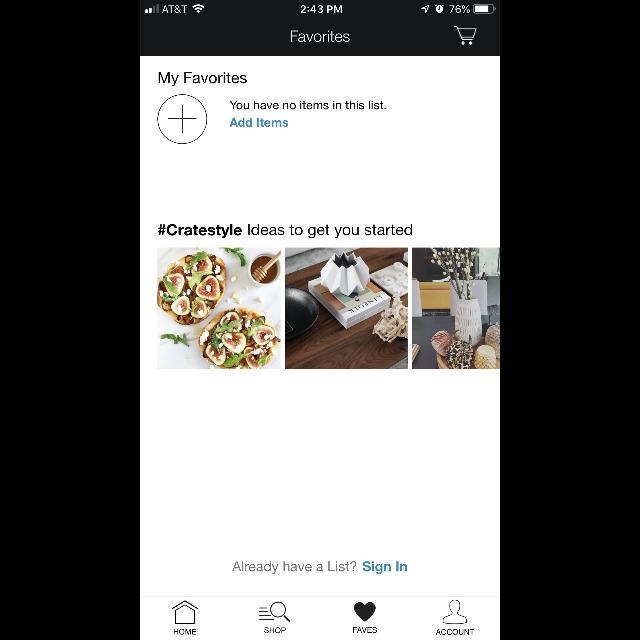icon: (158, 94, 208, 144), (172, 600, 198, 624), (260, 602, 290, 622), (443, 600, 467, 624), (354, 602, 376, 622), (454, 27, 476, 46)
image: (157, 248, 280, 370), (286, 248, 408, 370), (412, 248, 500, 370)
text: (158, 224, 412, 238), (232, 562, 408, 574), (230, 100, 386, 110), (159, 72, 247, 86), (290, 31, 350, 43), (230, 119, 288, 128), (436, 629, 474, 635), (353, 627, 377, 633), (264, 627, 286, 633), (174, 629, 196, 635)
uppertaskbar: (140, 0, 500, 14)
